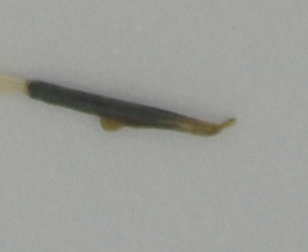เมล็ดงอกแตก: (1, 70, 238, 139)
